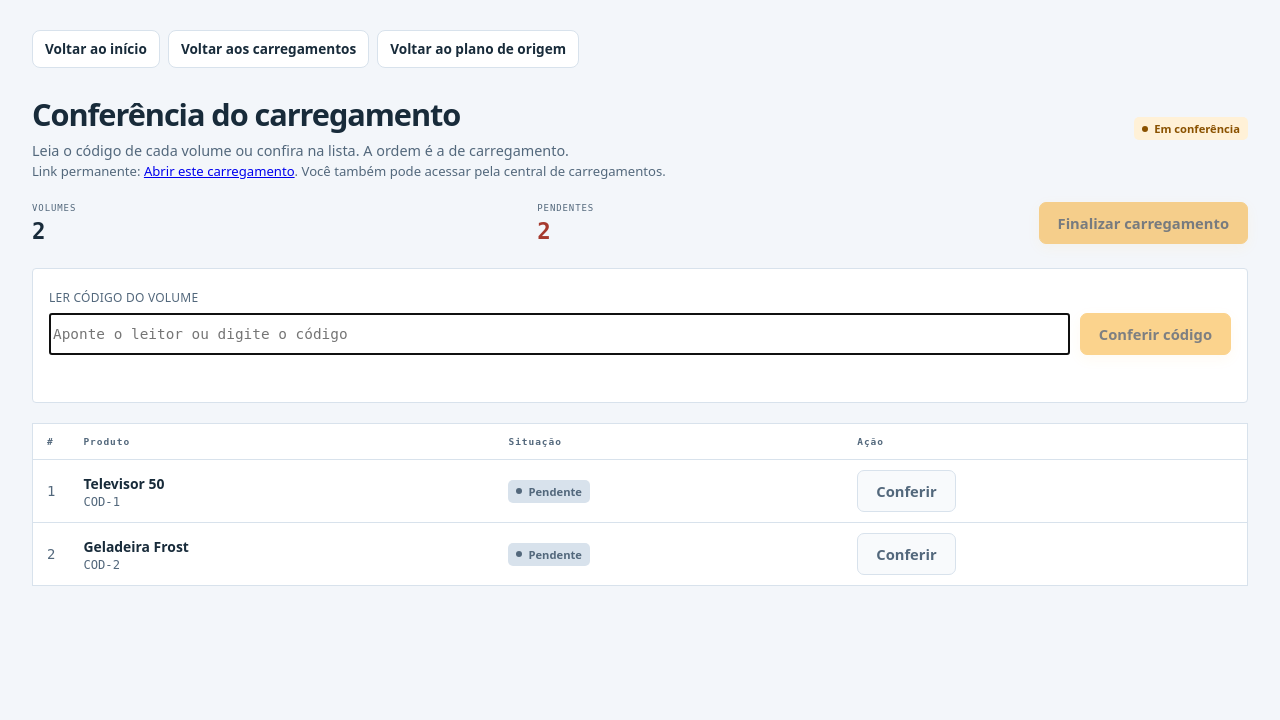
Test: LoadingPage — leitura de código (OC75) › confere o volume e diz QUAL entrou e quantos faltam
Check: the text "Televisor 50" is shown, box [83,474,164,493]
Type "loadx:loading-item:11111111-1111-4111-8111-111111111111" into the field labelled "LER CÓDIGO DO VOLUME" at {"x": 559, "y": 334}, box [49,313,1070,355]
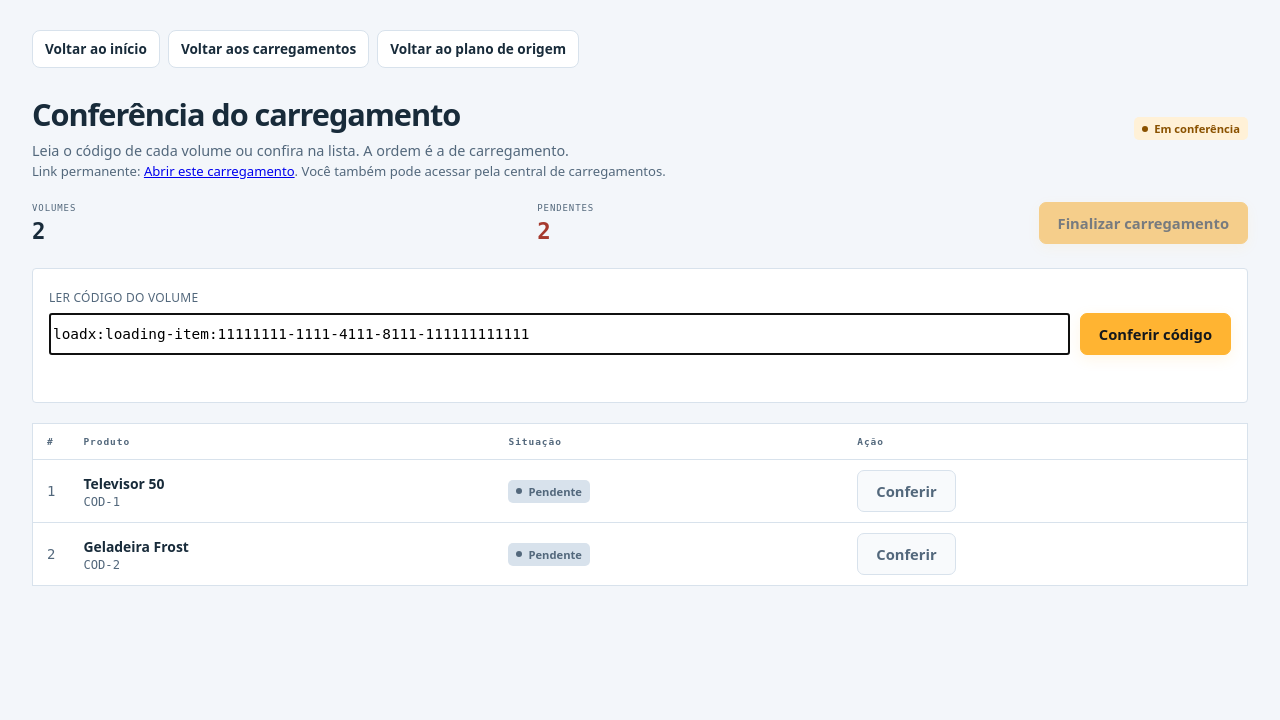
Submit the form labelled "LER CÓDIGO DO VOLUME", box [32,268,1248,403]
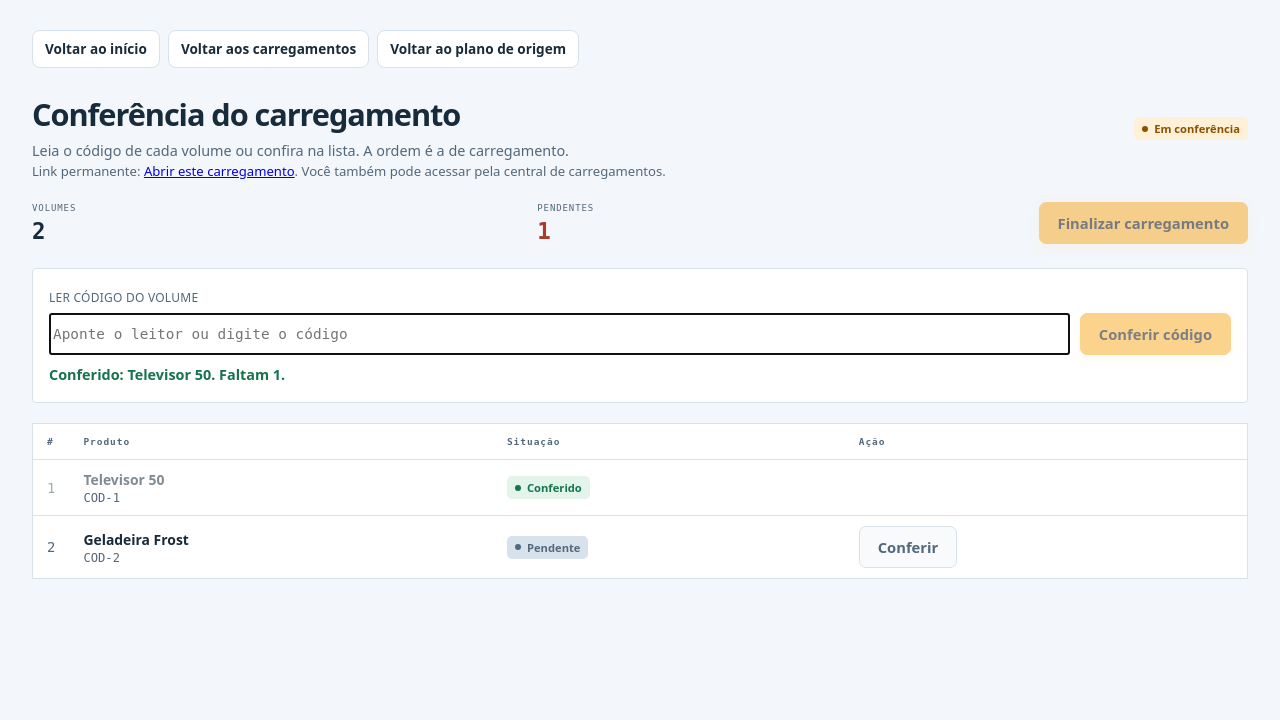
Check: the message reads "Conferido: Televisor 50. Faltam 1.", box [49,365,285,384]
